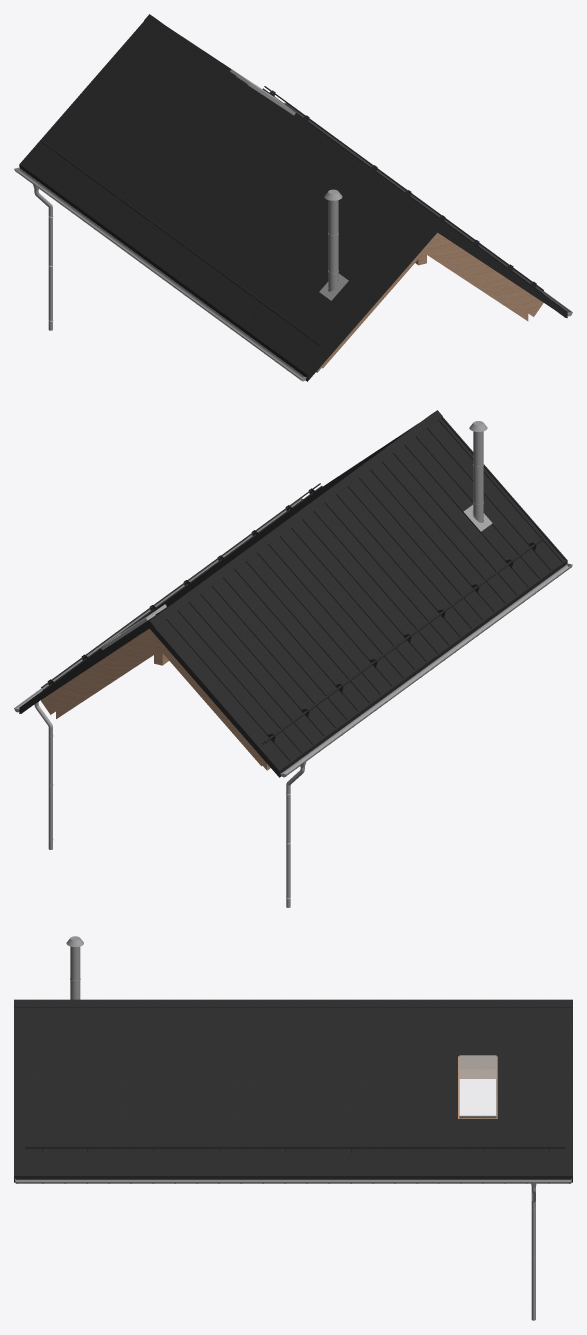
Rendered from Black_Roof.glb.
3 renders of one model, top to bottom at view 1: azimuth 30°, elevation 25°; view 2: azimuth 150°, elevation 25°; view 3: azimuth 270°, elevation 25°, orthographic. The views are drawn at different scales.
Parts seen in each view (by area): view 1: object_6.002, object_1.002, object_9.002, object_152.001, object_19.002, object_16.002, object_150.001; view 2: object_6.002, object_1.002, object_9.002, object_150.001, object_152.001, object_19.002, object_16.002; view 3: object_6.002, object_16.002, object_28.002, object_152.001, object_32.002, object_150.001.
Boxes of the visible parts, bbox=[...] form: object_6.002: bbox=[19, 14, 567, 381]; object_1.002: bbox=[321, 232, 543, 368]; object_9.002: bbox=[14, 167, 306, 381]; object_152.001: bbox=[319, 189, 348, 300]; object_19.002: bbox=[316, 248, 528, 372]; object_16.002: bbox=[284, 102, 572, 316]; object_150.001: bbox=[33, 184, 52, 330]; object_6.002: bbox=[19, 410, 567, 777]; object_1.002: bbox=[41, 628, 265, 766]; object_9.002: bbox=[280, 563, 572, 777]; object_150.001: bbox=[34, 701, 306, 907]; object_152.001: bbox=[463, 421, 492, 531]; object_19.002: bbox=[56, 646, 270, 770]; object_16.002: bbox=[14, 498, 302, 712]; object_6.002: bbox=[14, 999, 572, 1182]; object_16.002: bbox=[15, 1178, 571, 1183]; object_28.002: bbox=[459, 1056, 495, 1115]; object_152.001: bbox=[66, 936, 83, 999]; object_32.002: bbox=[458, 1056, 497, 1118]; object_150.001: bbox=[531, 1182, 536, 1320].
Bounding box in the file's own units: 2.54 × 2.66 × 4.64.
7 materials, 2 textured.
